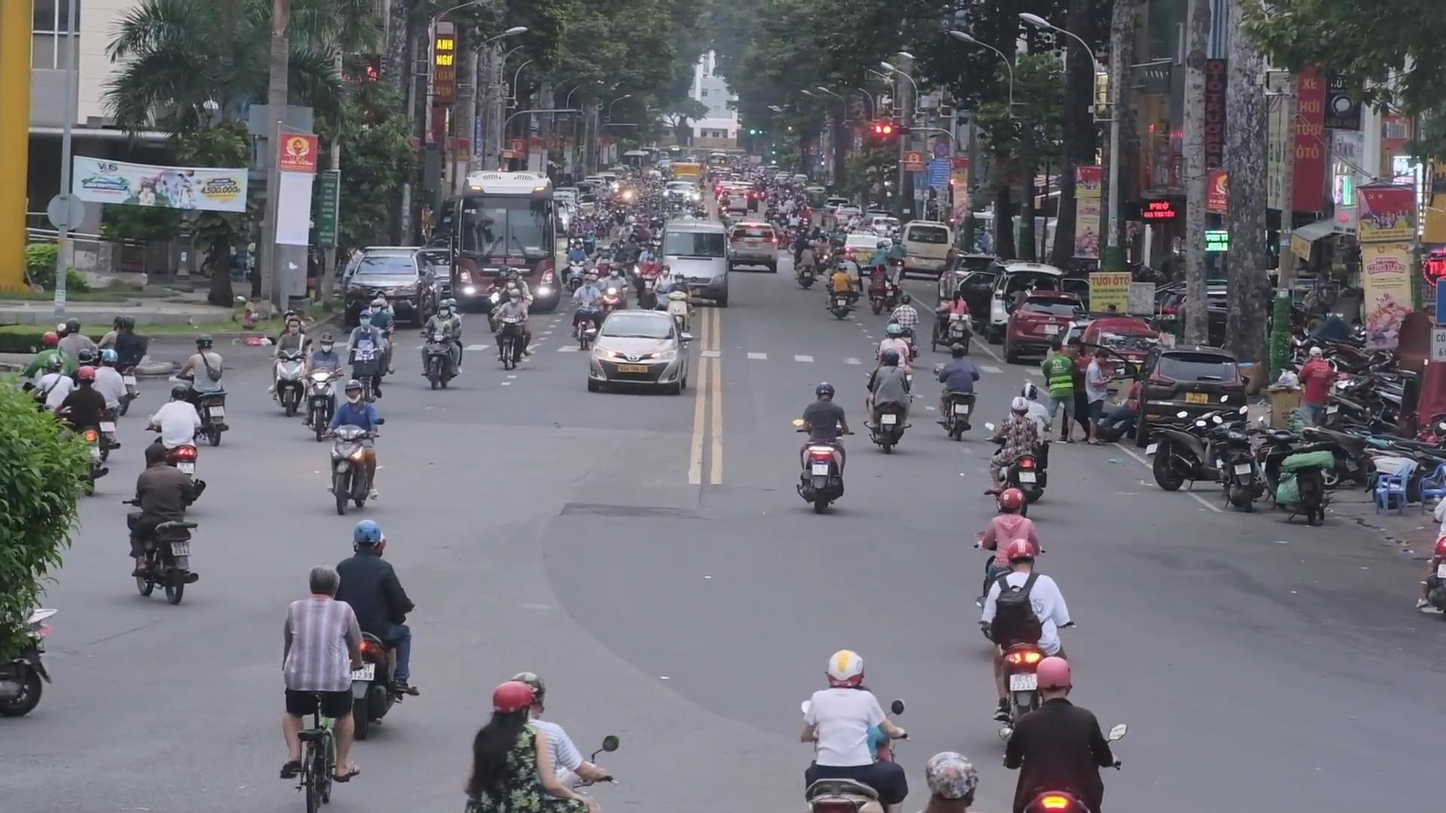bicyclist: (280, 566, 365, 813), (345, 310, 385, 404)
driver: (463, 669, 620, 813), (997, 655, 1128, 813), (974, 538, 1076, 728), (800, 649, 912, 813), (336, 519, 418, 742), (122, 442, 200, 606), (43, 365, 110, 497), (321, 380, 385, 516), (796, 382, 855, 515), (144, 384, 206, 506), (984, 397, 1044, 518), (176, 334, 230, 447), (296, 332, 345, 442), (863, 348, 912, 455), (266, 309, 314, 418), (932, 342, 980, 442), (419, 297, 463, 390), (493, 288, 533, 370), (664, 271, 696, 339), (826, 263, 856, 320)
helmet: (926, 751, 979, 808), (493, 681, 535, 725), (1036, 655, 1073, 698), (825, 649, 865, 688), (353, 520, 380, 552), (1007, 538, 1035, 567), (1000, 488, 1026, 515), (345, 380, 362, 404), (44, 353, 64, 373), (169, 384, 188, 403), (77, 366, 95, 386), (320, 332, 335, 354), (815, 383, 834, 400), (101, 349, 118, 367), (196, 334, 213, 351), (949, 342, 966, 359), (885, 324, 902, 341), (1012, 397, 1028, 415), (42, 332, 58, 350), (883, 349, 899, 366), (1021, 383, 1037, 400), (66, 318, 80, 334)
no-helmet: (309, 566, 341, 600), (145, 442, 167, 467), (359, 310, 372, 328)
